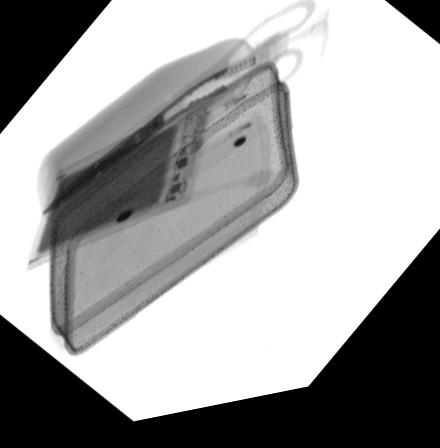Powerbank: (25, 112, 209, 272)
Scissors: (38, 10, 315, 217)
